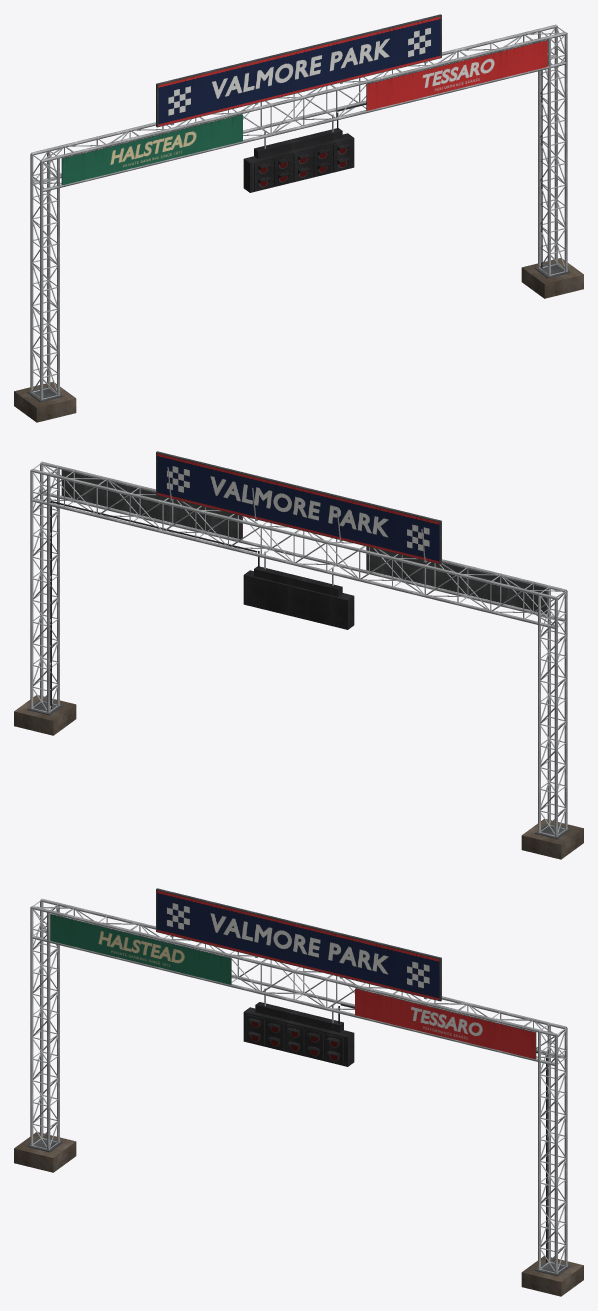
The model's file is gantry.glb.
3 renders of one model, top to bottom at view 1: azimuth 30°, elevation 25°; view 2: azimuth 150°, elevation 25°; view 3: azimuth 330°, elevation 25°, orthographic.
Visible parts, largest first — view 1: gantry; view 2: gantry; view 3: gantry.
Boxes of the visible parts, x1,y1,x2,y2 form: gantry: [14, 14, 583, 422]; gantry: [14, 451, 583, 859]; gantry: [14, 888, 583, 1296].
Size of the model in its own units: 19.4 by 10.1 by 1.4.
13 materials, 7 textured.
